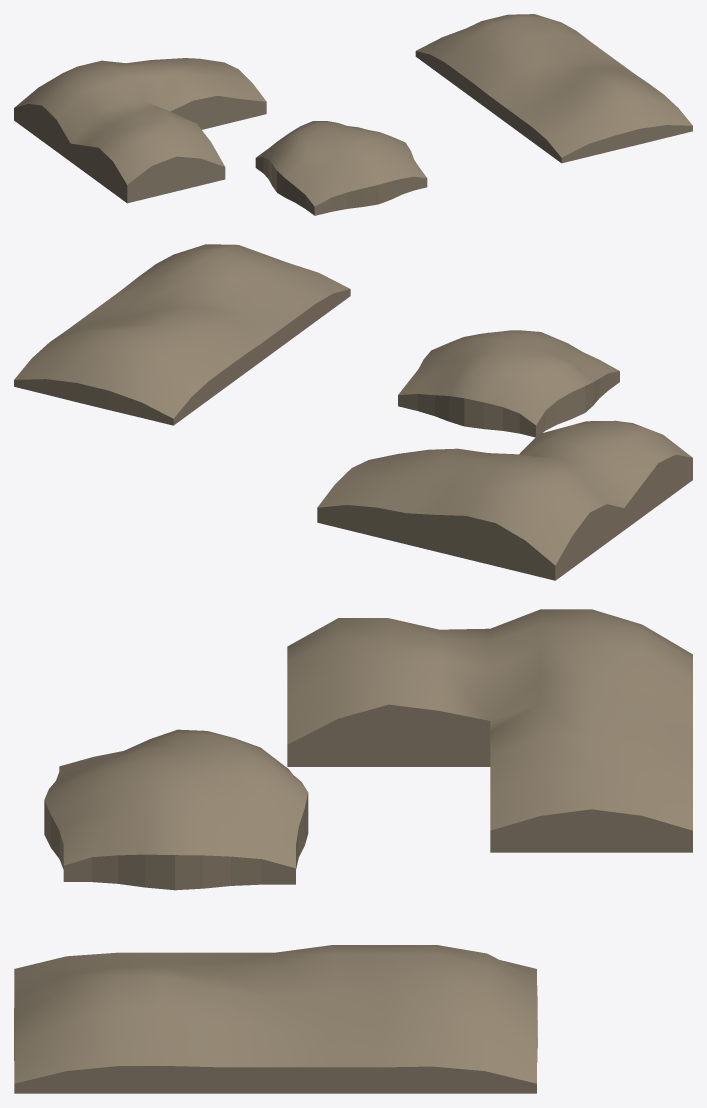
The model's file is egypt_sanddunes.fbx.
3 views of the same model, one above another, from view 1: azimuth 30°, elevation 25°; view 2: azimuth 150°, elevation 25°; view 3: azimuth 270°, elevation 25° (orthographic). The views are drawn at different scales.
Parts seen in each view (by area): view 1: sanddune3, sanddune1, sanddune2; view 2: sanddune3, sanddune1, sanddune2; view 3: sanddune3, sanddune1, sanddune2.
Boxes of the visible parts, left/top/right/bottom form: sanddune3: left=14, top=58, right=266, bottom=203; sanddune1: left=415, top=14, right=692, bottom=163; sanddune2: left=255, top=121, right=427, bottom=215; sanddune3: left=317, top=420, right=692, bottom=580; sanddune1: left=14, top=244, right=350, bottom=425; sanddune2: left=398, top=330, right=619, bottom=437; sanddune3: left=287, top=609, right=692, bottom=852; sanddune1: left=14, top=945, right=537, bottom=1093; sanddune2: left=44, top=729, right=308, bottom=890.
Bounding box in the file's own units: 25.08 × 2.7 × 16.83.
